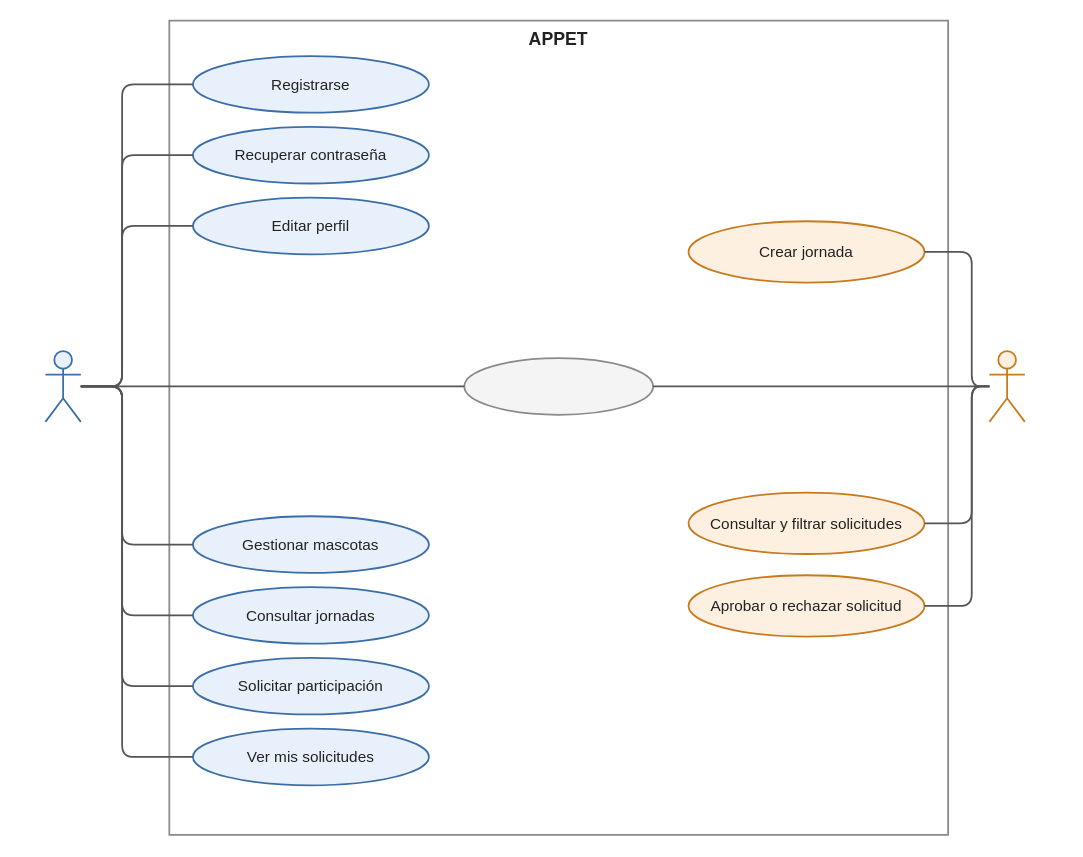
Image size: 1083x857. Some labels were removed from this diagram. Each missing label, with the box of its shape:
Administrador: (988, 350, 1025, 422)
Ciudadano: (44, 350, 81, 422)
Iniciar sesión: (463, 357, 653, 415)
